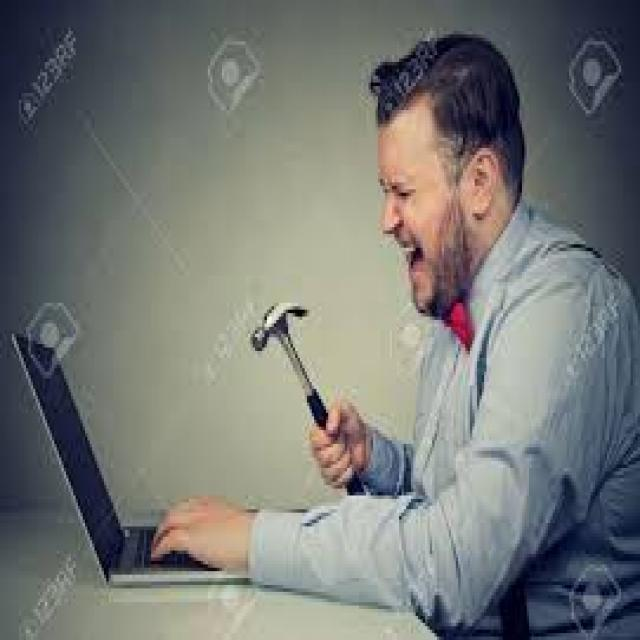hammer: (246, 286, 366, 502)
